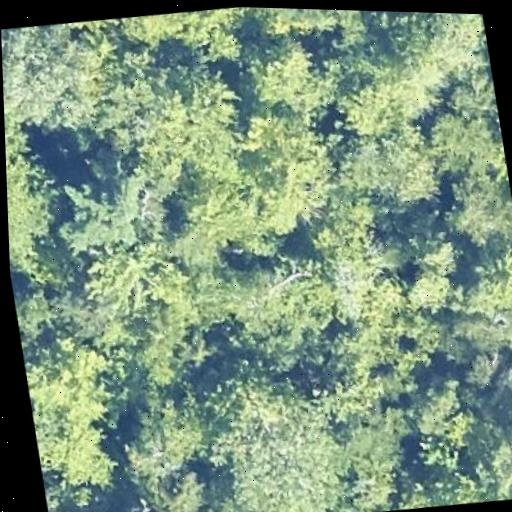tree-top: (174, 233, 347, 383), (192, 367, 367, 512), (114, 58, 252, 193), (21, 330, 136, 486), (235, 110, 353, 234), (1, 17, 120, 136), (70, 225, 188, 323), (4, 116, 71, 285), (47, 169, 155, 269), (107, 390, 208, 494), (119, 4, 256, 77), (240, 27, 344, 122), (368, 11, 492, 83), (343, 123, 441, 210), (167, 163, 264, 250), (328, 74, 420, 149), (433, 162, 512, 247), (426, 102, 505, 178), (454, 227, 512, 326), (11, 276, 65, 381), (395, 369, 465, 440), (132, 461, 218, 512), (468, 410, 512, 503), (401, 260, 468, 317), (248, 7, 352, 43), (444, 68, 500, 131), (332, 10, 383, 55), (42, 473, 80, 512)
